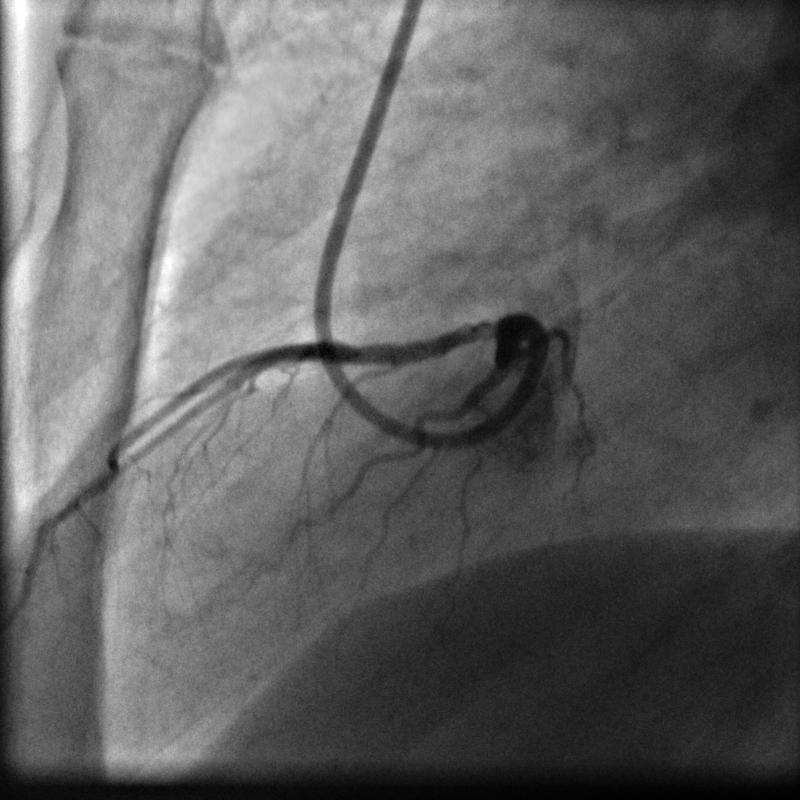Stenosis: (338, 337, 377, 365)
